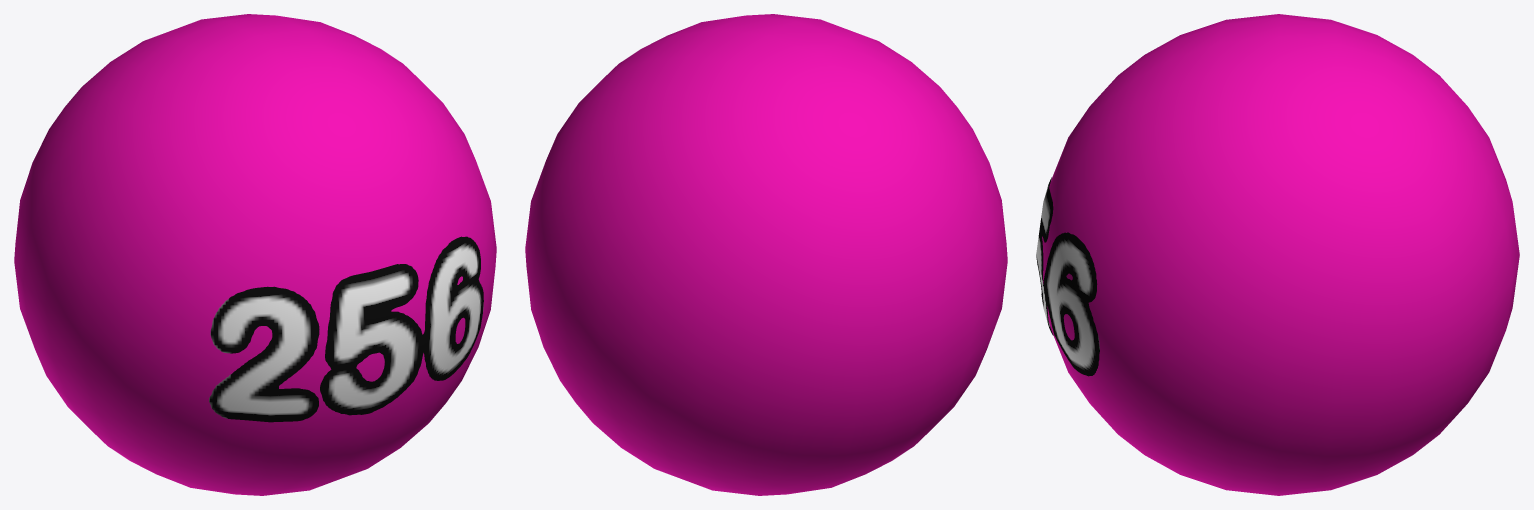
The model's file is Ball 256.fbx.
The picture shows the model from 3 angles, left to right: view 1: azimuth 30°, elevation 25°; view 2: azimuth 150°, elevation 25°; view 3: azimuth 270°, elevation 25°; orthographic projection.
Parts seen in each view (by area): view 1: Ball 256; view 2: Ball 256; view 3: Ball 256.
Part boxes in pixels (x1,y1,x2,y2): Ball 256: (14,14,496,495); Ball 256: (525,14,1007,495); Ball 256: (1036,14,1519,495).
Size of the model in its own units: 164 by 164 by 164.
